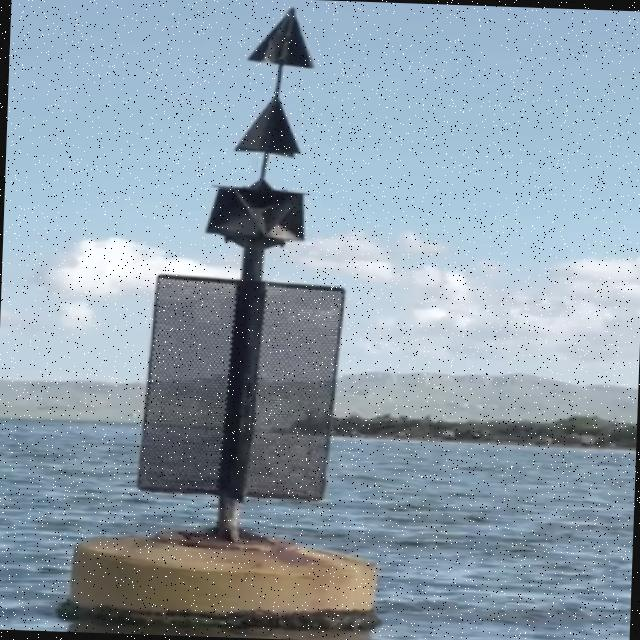marque: (54, 1, 406, 633)
